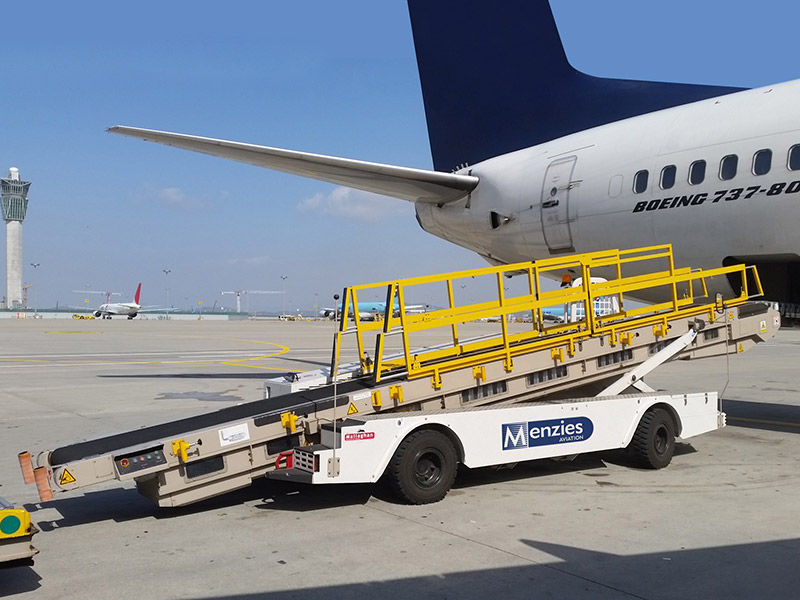baggagetruck: (19, 233, 773, 533)
